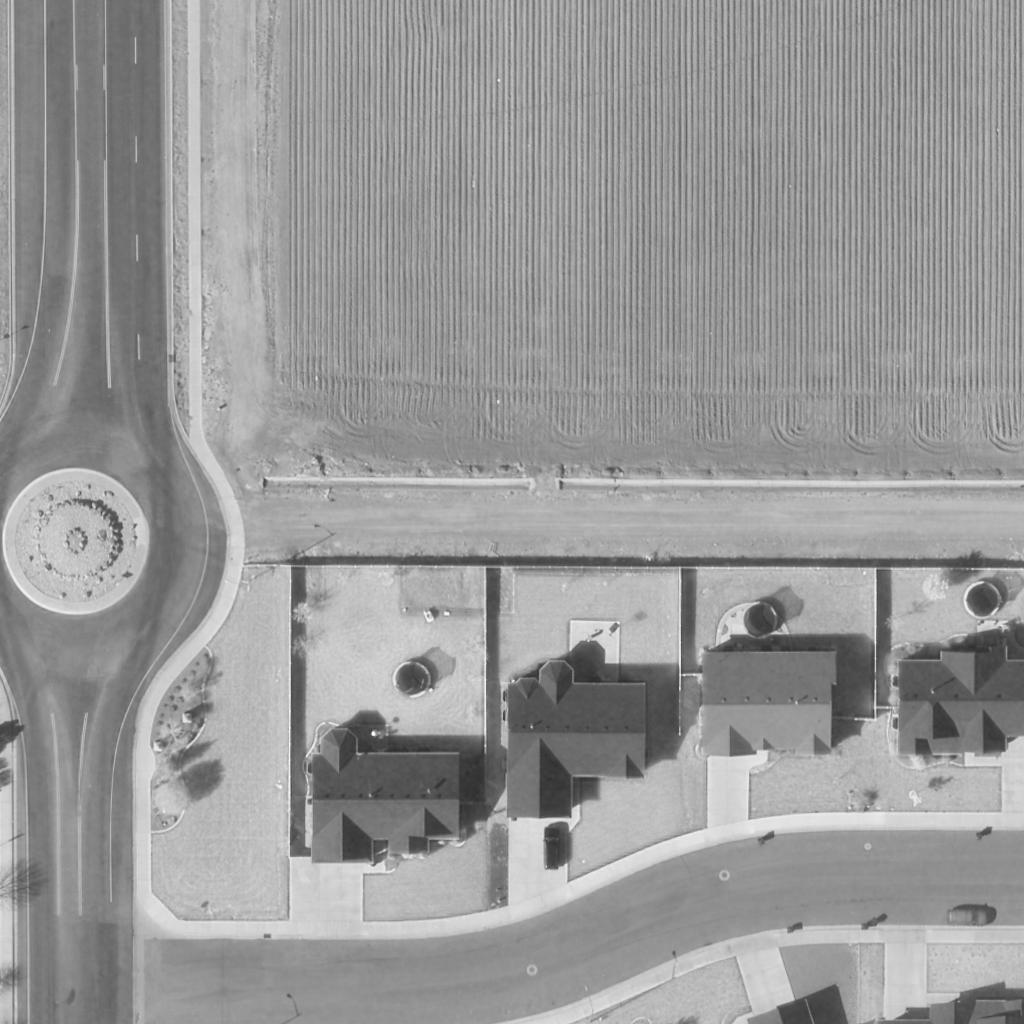vehicle: (947, 910, 993, 926), (544, 830, 560, 870)
